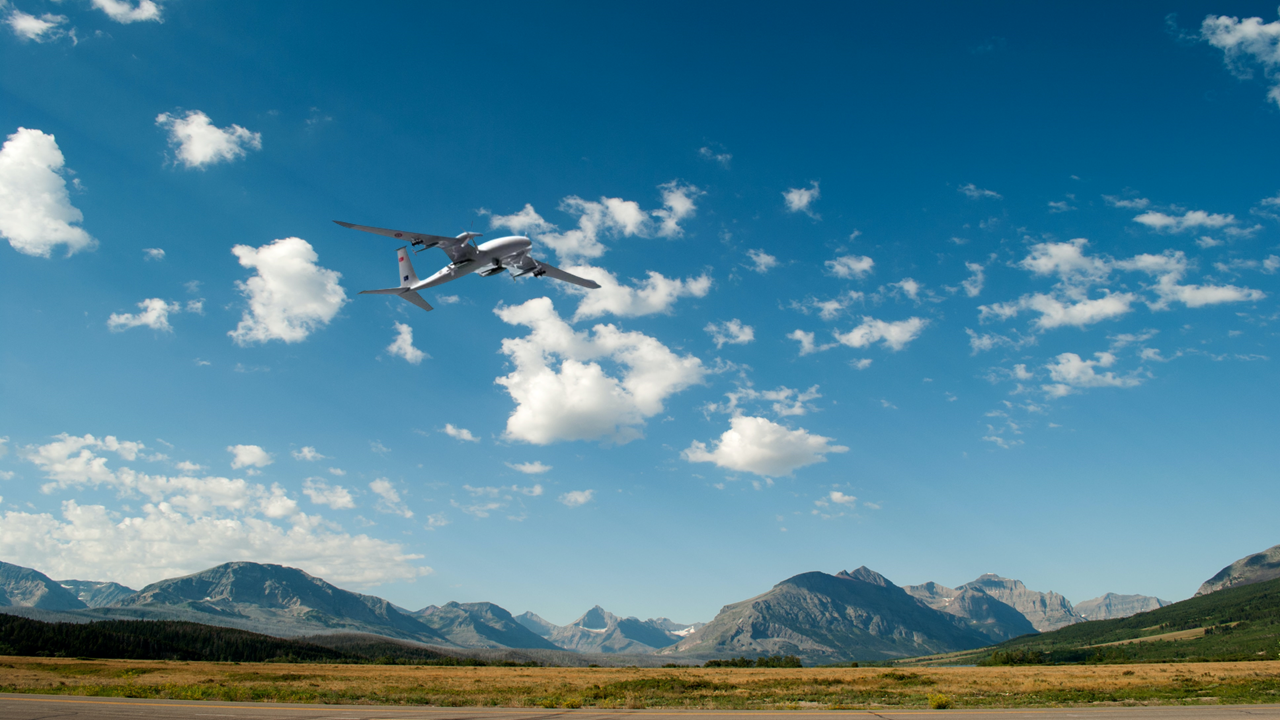military drone: (330, 219, 602, 312)
